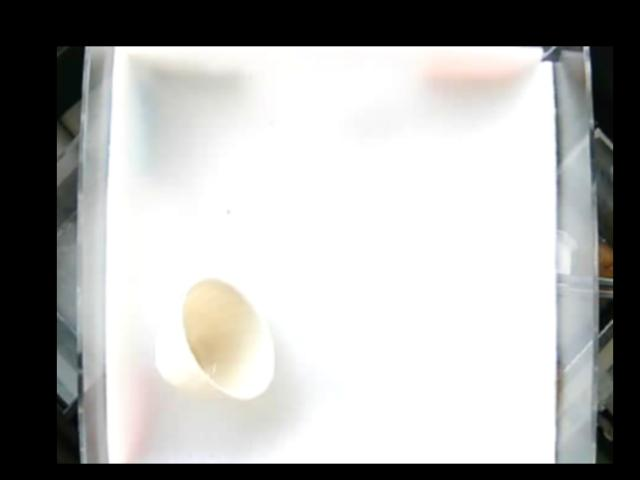Cup: (155, 279, 277, 399)
